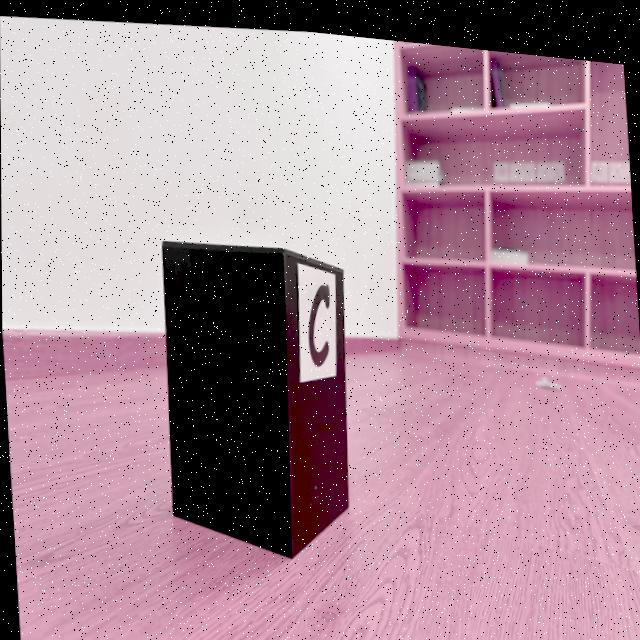C: (307, 278, 330, 359)
